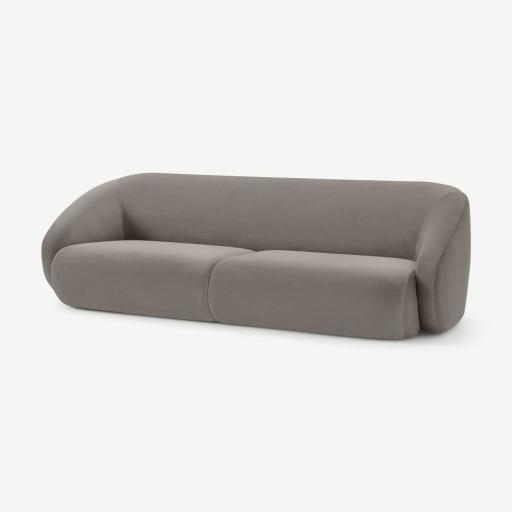back_cushion: (118, 173, 465, 276)
left_arm: (417, 193, 470, 333)
right_arm: (42, 180, 125, 289)
seat_cushion: (51, 241, 419, 339)
two-seater: (0, 0, 511, 512)
